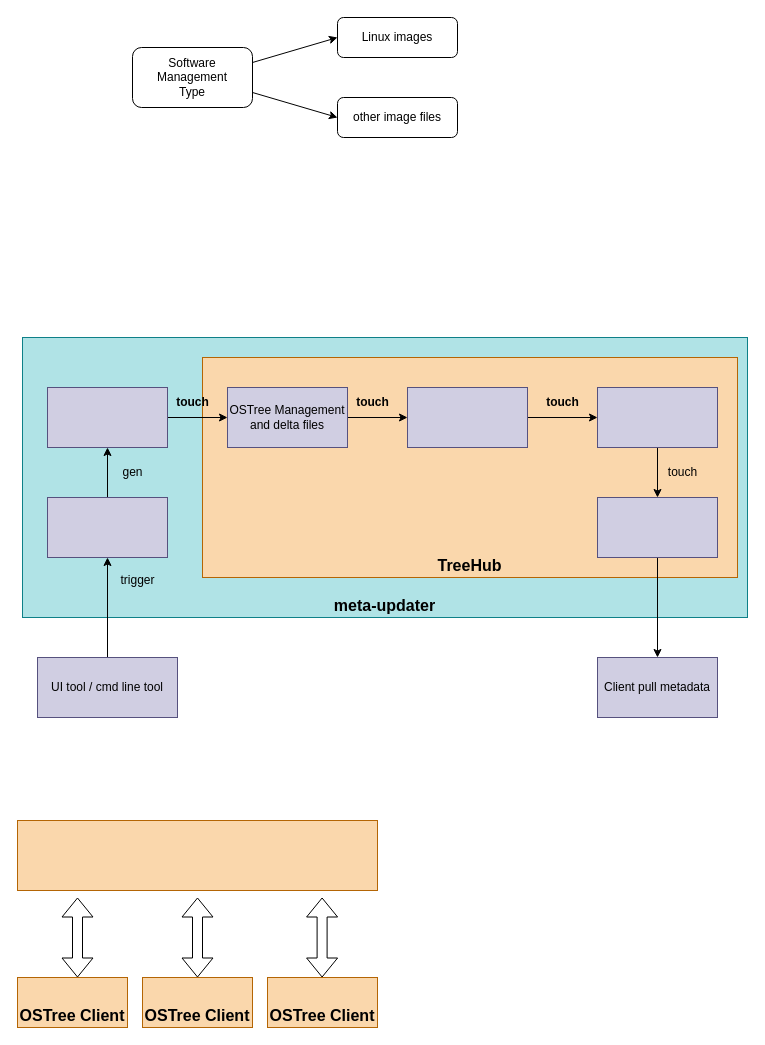
Some shapes in this 765 by 1045 pixel diagram are drawn without their labels. The centre of each missing label's shape, as x and y in pixels:
"build system ( Yocto )" goes at pixel 107 527.
"Generated files in boot parition files in rootfs" goes at pixel 107 417.
"metadata deployment" goes at pixel 657 527.
"Signed OSTree metadata" goes at pixel 467 417.
"TreeHub (OSTree repository)" goes at pixel 197 855.
"Uptane management to uptane metadata" goes at pixel 657 417.
